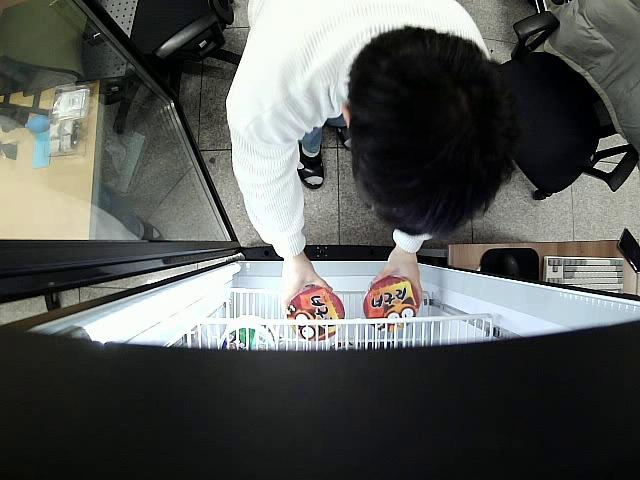00_hand: (371, 258, 423, 313), (281, 264, 333, 311)
05_nuguri_L: (364, 277, 421, 333), (289, 285, 344, 339)
